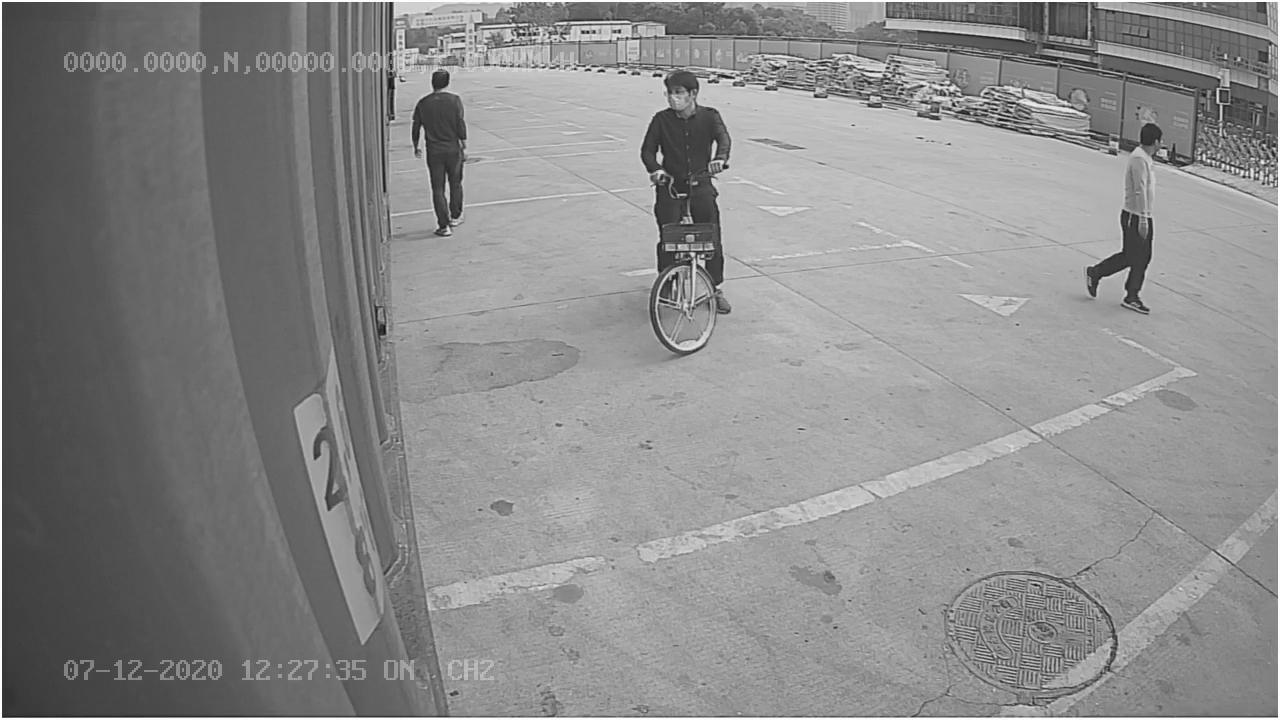person: (407, 67, 481, 241)
